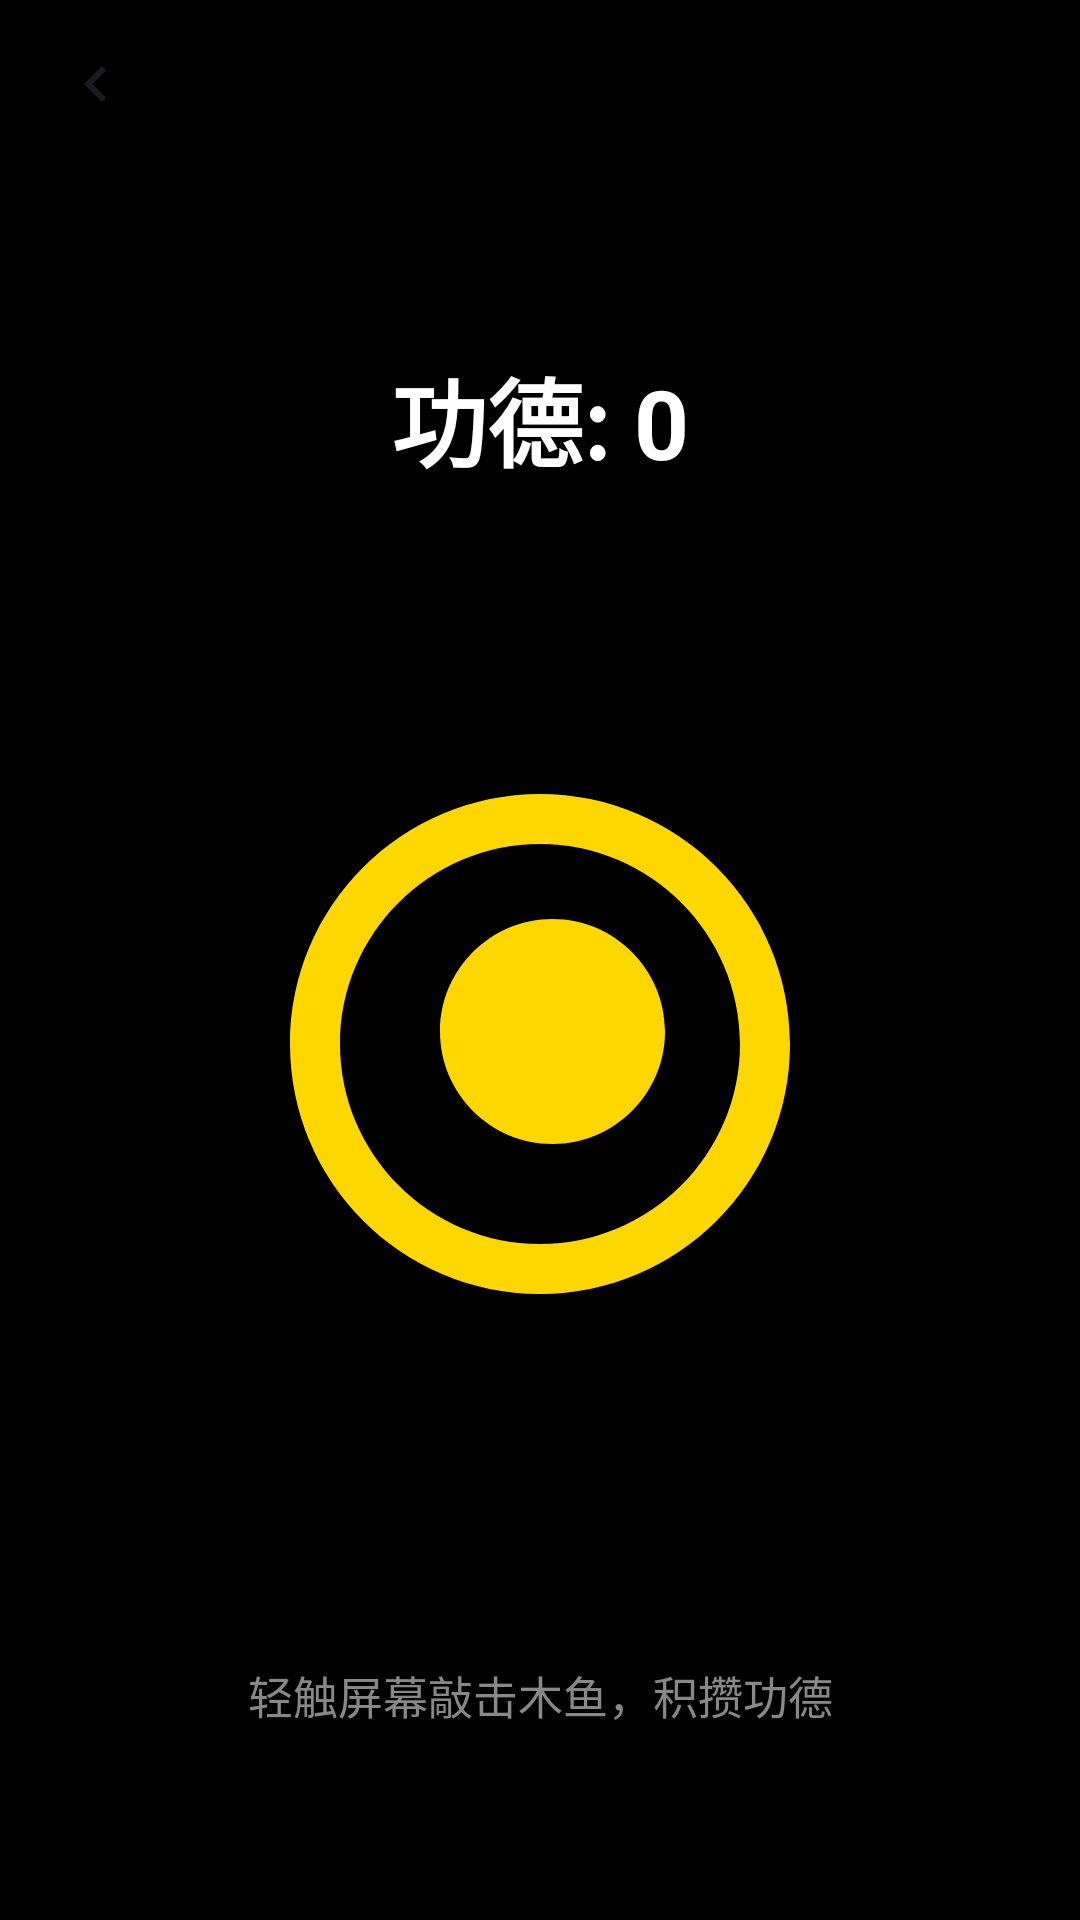

Named icons in this screenshot (1080px×1920px) and their centers, point (x, y):
返回: point (95, 84)
